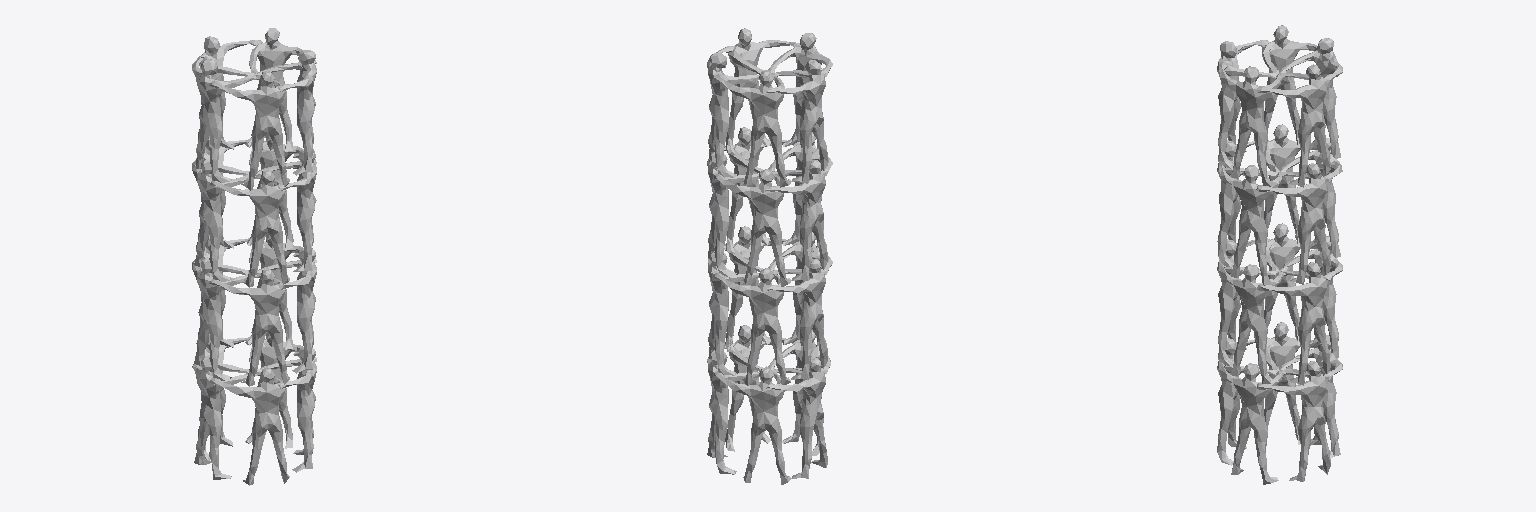
The model's file is menwithmap.obj.
The picture shows the model from 3 angles: view 1: azimuth 30°, elevation 25°; view 2: azimuth 150°, elevation 25°; view 3: azimuth 270°, elevation 25°; orthographic projection.
Size of the model in its own units: 1922 by 6904 by 1910.